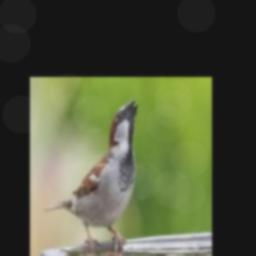Sparrow: (44, 100, 137, 253)
